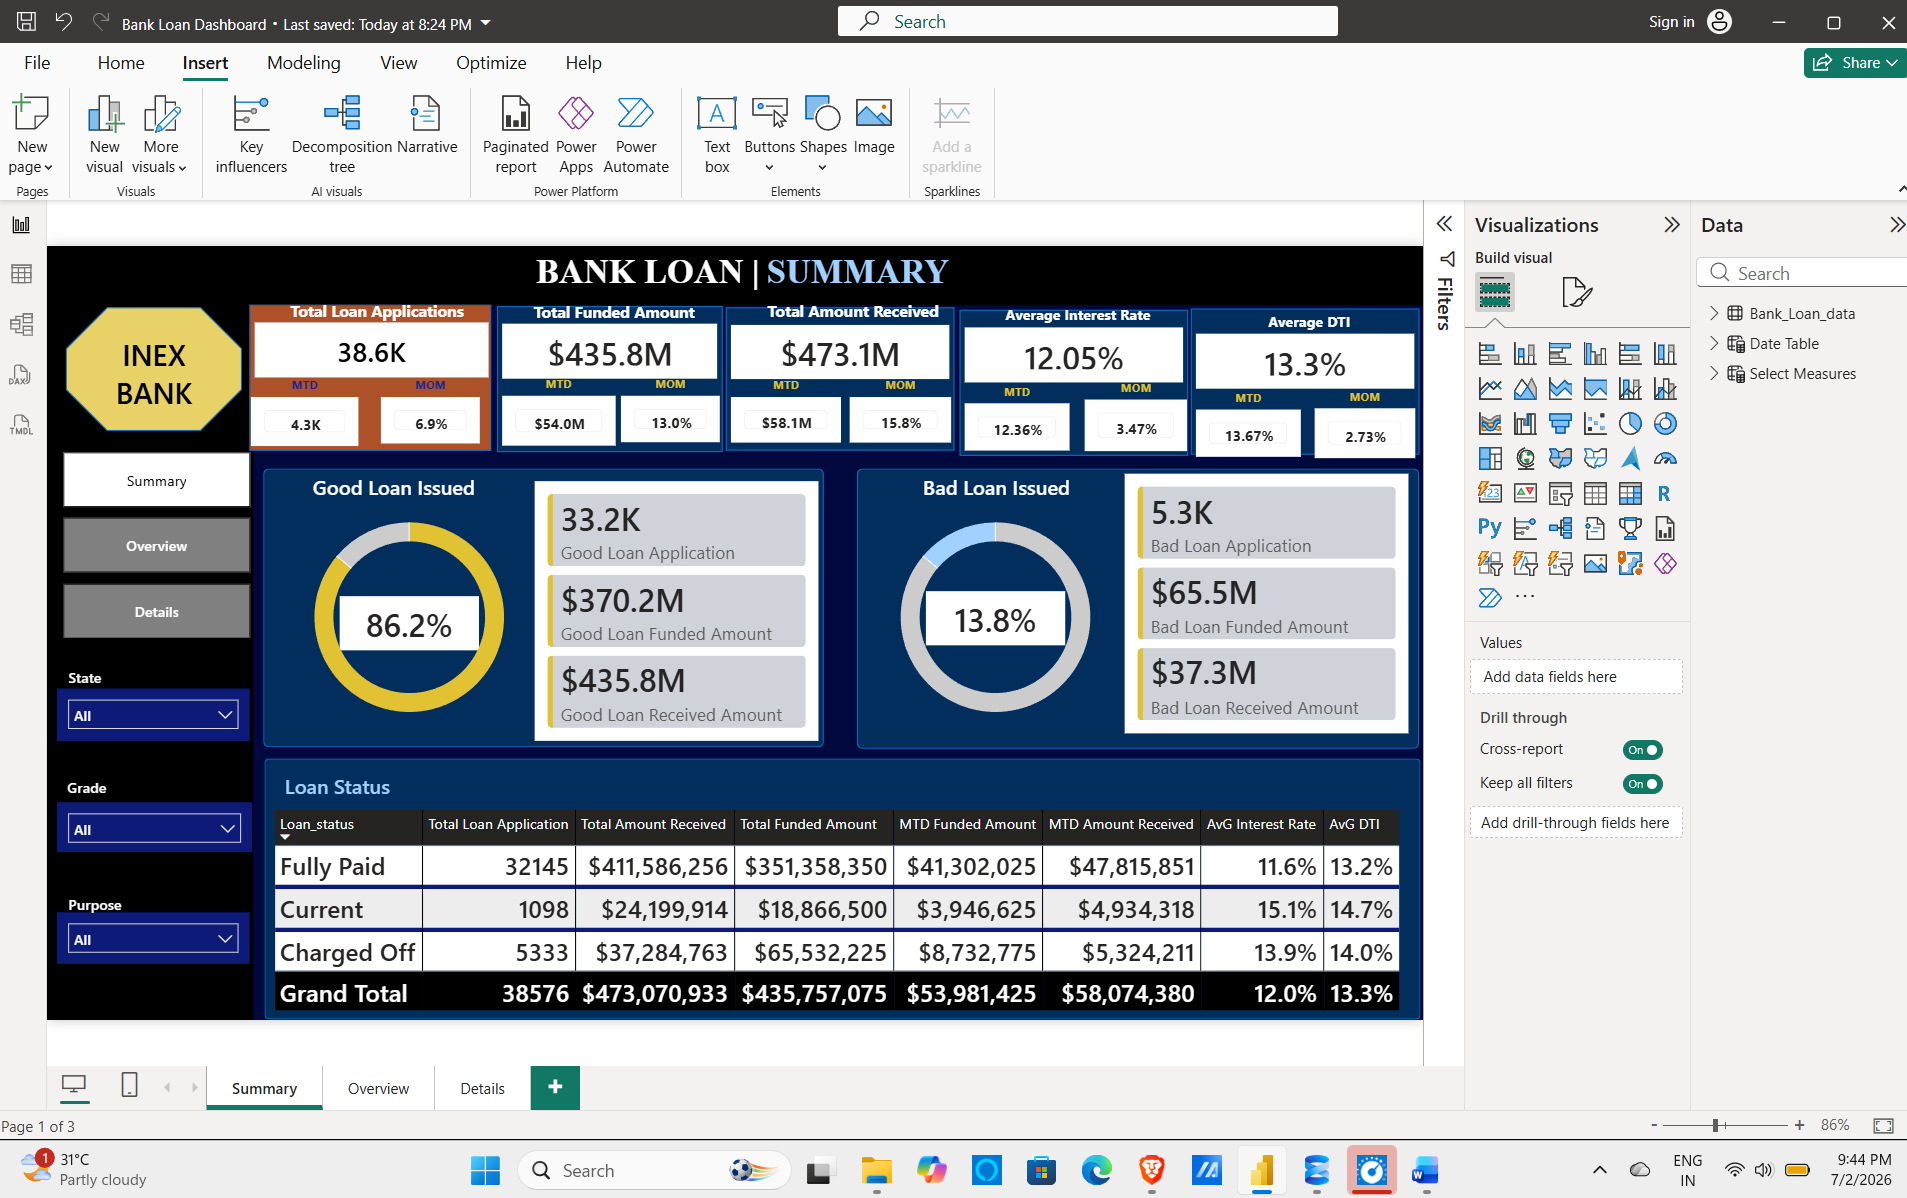

The page's visual inventory and layout, read from the dashboard file:
{"tool":"powerbi","page":{"name":"Summary","canvas":[1280,720],"ordinal":0},"visuals":[{"type":"shape","box":[189.4,54.7,225,135.9],"z":0,"group":"g1"},{"type":"shape","box":[1063.5,54.7,212.8,135.9],"z":0,"group":"g5"},{"type":"shape","box":[418.9,56.1,210,135.9],"z":0,"group":"g2"},{"type":"shape","box":[847.7,56.1,212.8,135.9],"z":0,"group":"g4"},{"type":"shape","box":[631.9,57.2,212.8,133.4],"z":0,"group":"g3"},{"type":"shape","box":[201.7,207.2,521.4,259.3],"z":0},{"type":"shape","box":[0,0,1280.3,55],"z":1000},{"type":"cardVisual","fields":{"Data":["Bank_Loan_data.Total Loan Application"]},"box":[189.4,65.7,227.8,61.2],"z":1000,"group":"g1"},{"type":"cardVisual","fields":{"Data":["Bank_Loan_data.AvG DTI"]},"box":[1063.5,65.7,213.7,61.2],"z":1000,"group":"g5"},{"type":"cardVisual","fields":{"Data":["Bank_Loan_data.Total Funded Amount"]},"box":[418.9,67.1,210.9,61.2],"z":1000,"group":"g2"},{"type":"cardVisual","fields":{"Data":["Bank_Loan_data.AvG Interest Rate"]},"box":[847.7,67.1,213.7,61.2],"z":1000,"group":"g4"},{"type":"cardVisual","fields":{"Data":["Bank_Loan_data.Total Amount Received"]},"box":[631.9,68,213.7,60],"z":1000,"group":"g3"},{"type":"textbox","box":[197.1,44.9,220.9,31.6],"z":2000,"group":"g1"},{"type":"textbox","box":[651.2,45.2,197.6,30.2],"z":2000,"group":"g3"},{"type":"textbox","box":[1074.9,45.3,197.2,31.3],"z":2000,"group":"g5"},{"type":"textbox","box":[430.1,46.7,194.7,31.3],"z":2000,"group":"g2"},{"type":"textbox","box":[859.1,46.7,197.2,31.3],"z":2000,"group":"g4"},{"type":"cardVisual","fields":{"Data":["Bank_Loan_data.Good Loan %"]},"box":[267.6,321.1,140,60.4],"z":2000},{"type":"shape","box":[0,54.9,192,665.5],"z":3000},{"type":"cardVisual","title":"MTD","fields":{"Data":["Bank_Loan_data.MTD Total Loan Applications"]},"box":[189.4,122.6,96.1,68],"z":3000,"group":"g1"},{"type":"cardVisual","title":"MTD","fields":{"Data":["Bank_Loan_data.MTD Avg DTI"]},"box":[1063.8,123.1,107.7,68],"z":3000,"group":"g5"},{"type":"cardVisual","title":"MTD","fields":{"Data":["Bank_Loan_data.MTD Amount Received"]},"box":[632.2,124.3,107.7,66.7],"z":3000,"group":"g3"},{"type":"cardVisual","title":"MTD","fields":{"Data":["Bank_Loan_data.MTD Funded Amount"]},"box":[419.2,124.5,106.3,68],"z":3000,"group":"g2"},{"type":"cardVisual","title":"MTD","fields":{"Data":["Bank_Loan_data.MTD AvG Interest"]},"box":[848,124.5,107.7,68],"z":3000,"group":"g4"},{"type":"textbox","box":[450,0,433.7,54.7],"z":4000},{"type":"cardVisual","title":"MOM","fields":{"Data":["Bank_Loan_data.MOM AvG DTI"]},"box":[1175.4,121.7,98.6,68],"z":4000,"group":"g5"},{"type":"cardVisual","title":"MOM","fields":{"Data":["Bank_Loan_data.MOM Loan Application"]},"box":[323.6,122.6,90.8,68],"z":4000,"group":"g1"},{"type":"cardVisual","title":"MOM","fields":{"Data":["Bank_Loan_data.MOM Amount Received"]},"box":[743.8,123,98.6,66.7],"z":4000,"group":"g3"},{"type":"cardVisual","title":"MOM","fields":{"Data":["Bank_Loan_data.MOM Funded Amount"]},"box":[529.4,123.1,97.3,68],"z":4000,"group":"g2"},{"type":"cardVisual","title":"MOM","fields":{"Data":["Bank_Loan_data.MOM AvG Interest Rate"]},"box":[959.6,123.1,98.6,68],"z":4000,"group":"g4"},{"type":"group","id":"g1","title":"Group 1","box":[189.4,44.9,228.7,145.7],"z":5000},{"type":"donutChart","fields":{"Category":["Bank_Loan_data.Good VS Bad Loan"],"Y":["Bank_Loan_data.Total Loan Application","Bank_Loan_data.Good Loan %"]},"box":[211.3,230.5,251.1,230.5],"z":6000},{"type":"group","id":"g2","title":"Group 1","box":[418.9,46.7,211.3,145.5],"z":7000},{"type":"group","id":"g3","title":"Group 1","box":[631.9,45.2,216.9,145.8],"z":8000},{"type":"group","id":"g4","title":"Group 1","box":[847.7,46.7,214.1,145.5],"z":9000},{"type":"group","id":"g5","title":"Group 1","box":[1063.5,45.3,214.1,145.5],"z":10000},{"type":"shape","box":[753.3,207.2,522.8,260.7],"z":11000},{"type":"textbox","box":[233.3,207.2,178,35],"z":12000},{"type":"cardVisual","fields":{"Data":["Bank_Loan_data.Good Loan Application","Bank_Loan_data.Good Loan Funded Amount","Bank_Loan_data.Good Loan Received Amount"]},"box":[448.7,214.1,274.4,253.9],"z":13000},{"type":"cardVisual","fields":{"Data":["Bank_Loan_data.Bad Loan Application","Bank_Loan_data.Bad Loan Funded Amount","Bank_Loan_data.Bad Loan Received Amount"]},"box":[997.6,207.2,274.4,253.9],"z":14000},{"type":"donutChart","fields":{"Category":["Bank_Loan_data.Good VS Bad Loan"],"Y":["Bank_Loan_data.Total Loan Application","Bank_Loan_data.Good Loan %"]},"box":[757.5,230.5,251.1,230.5],"z":15000},{"type":"cardVisual","fields":{"Data":["Bank_Loan_data.Bad Loan %"]},"box":[813,316.4,139.8,60.1],"z":16000},{"type":"textbox","box":[794.5,207.2,178.4,35.7],"z":17000},{"type":"shape","box":[202.3,477,1075.5,242.8],"z":18000},{"type":"tableEx","fields":{"Values":["Bank_Loan_data.loan_status","Bank_Loan_data.Total Loan Application","Bank_Loan_data.Total Amount Received","Bank_Loan_data.Total Funded Amount","Bank_Loan_data.MTD Funded Amount","Bank_Loan_data.MTD Amount Received","Bank_Loan_data.AvG Interest Rate","Bank_Loan_data.AvG DTI"]},"box":[206,519.9,1063.2,199.9],"z":19000},{"type":"textbox","box":[215.8,484.4,177.8,35.6],"z":20000},{"type":"slicer","fields":{"Values":["Bank_Loan_data.address_state"]},"box":[9.8,412,179,49.1],"z":21000},{"type":"textbox","box":[14.7,387.5,78.5,30.7],"z":22000},{"type":"slicer","fields":{"Values":["Bank_Loan_data.grade"]},"box":[9.8,517.5,181.5,46.6],"z":23000},{"type":"slicer","fields":{"Values":["Bank_Loan_data.purpose"]},"box":[9.8,619.3,179,47.8],"z":24000},{"type":"textbox","box":[13.5,489.3,74.8,30.7],"z":25000},{"type":"textbox","box":[14.7,598.4,80.9,30.7],"z":26000},{"type":"pageNavigator","box":[14.7,191.3,174.1,174.1],"z":27000},{"type":"shape","box":[17.4,57,164,115.1],"z":28000},{"type":"textbox","box":[45.3,77.9,108.1,81.4],"z":28001}]}

Visuals, with their boxes on the page's 1280x720 design canvas (x1, y1, x2, y2). These are canvas units, not pixel positions in the 1907x1198 screenshot, which may show the page scaled, cropped or inside an application window:
shape: bbox(189, 55, 414, 191)
shape: bbox(1064, 55, 1276, 191)
shape: bbox(419, 56, 629, 192)
shape: bbox(848, 56, 1060, 192)
shape: bbox(632, 57, 845, 191)
shape: bbox(202, 207, 723, 466)
shape: bbox(0, 0, 1280, 55)
cardVisual - Bank_Loan_data.Total Loan Application: bbox(189, 66, 417, 127)
cardVisual - Bank_Loan_data.AvG DTI: bbox(1064, 66, 1277, 127)
cardVisual - Bank_Loan_data.Total Funded Amount: bbox(419, 67, 630, 128)
cardVisual - Bank_Loan_data.AvG Interest Rate: bbox(848, 67, 1061, 128)
cardVisual - Bank_Loan_data.Total Amount Received: bbox(632, 68, 846, 128)
textbox: bbox(197, 45, 418, 76)
textbox: bbox(651, 45, 849, 75)
textbox: bbox(1075, 45, 1272, 77)
textbox: bbox(430, 47, 625, 78)
textbox: bbox(859, 47, 1056, 78)
cardVisual - Bank_Loan_data.Good Loan %: bbox(268, 321, 408, 382)
shape: bbox(0, 55, 192, 720)
"MTD" cardVisual: bbox(189, 123, 286, 191)
"MTD" cardVisual: bbox(1064, 123, 1172, 191)
"MTD" cardVisual: bbox(632, 124, 740, 191)
"MTD" cardVisual: bbox(419, 124, 526, 192)
"MTD" cardVisual: bbox(848, 124, 956, 192)
textbox: bbox(450, 0, 884, 55)
"MOM" cardVisual: bbox(1175, 122, 1274, 190)
"MOM" cardVisual: bbox(324, 123, 414, 191)
"MOM" cardVisual: bbox(744, 123, 842, 190)
"MOM" cardVisual: bbox(529, 123, 627, 191)
"MOM" cardVisual: bbox(960, 123, 1058, 191)
"Group 1" group: bbox(189, 45, 418, 191)
donutChart - Bank_Loan_data.Good VS Bad Loan x Bank_Loan_data.Total Loan Application: bbox(211, 230, 462, 461)
"Group 1" group: bbox(419, 47, 630, 192)
"Group 1" group: bbox(632, 45, 849, 191)
"Group 1" group: bbox(848, 47, 1062, 192)
"Group 1" group: bbox(1064, 45, 1278, 191)
shape: bbox(753, 207, 1276, 468)
textbox: bbox(233, 207, 411, 242)
cardVisual - Bank_Loan_data.Good Loan Application x Bank_Loan_data.Good Loan Funded Amount: bbox(449, 214, 723, 468)
cardVisual - Bank_Loan_data.Bad Loan Application x Bank_Loan_data.Bad Loan Funded Amount: bbox(998, 207, 1272, 461)
donutChart - Bank_Loan_data.Good VS Bad Loan x Bank_Loan_data.Total Loan Application: bbox(758, 230, 1009, 461)
cardVisual - Bank_Loan_data.Bad Loan %: bbox(813, 316, 953, 376)
textbox: bbox(794, 207, 973, 243)
shape: bbox(202, 477, 1278, 720)
tableEx - Bank_Loan_data.loan_status x Bank_Loan_data.Total Loan Application: bbox(206, 520, 1269, 720)
textbox: bbox(216, 484, 394, 520)
slicer - Bank_Loan_data.address_state: bbox(10, 412, 189, 461)
textbox: bbox(15, 388, 93, 418)
slicer - Bank_Loan_data.grade: bbox(10, 518, 191, 564)
slicer - Bank_Loan_data.purpose: bbox(10, 619, 189, 667)
textbox: bbox(14, 489, 88, 520)
textbox: bbox(15, 598, 96, 629)
pageNavigator: bbox(15, 191, 189, 365)
shape: bbox(17, 57, 181, 172)
textbox: bbox(45, 78, 153, 159)
